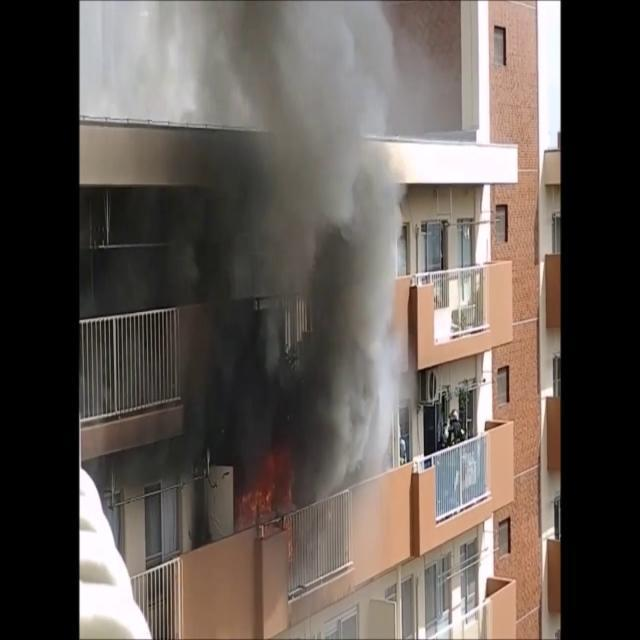Smoke: (90, 0, 414, 517)
